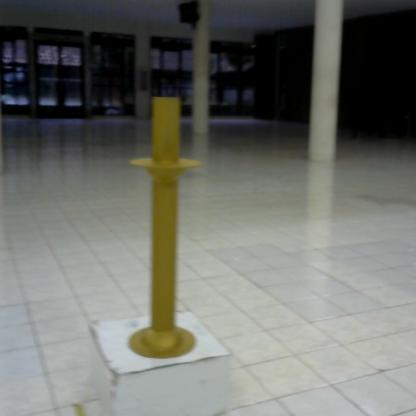pole: (123, 86, 203, 364)
